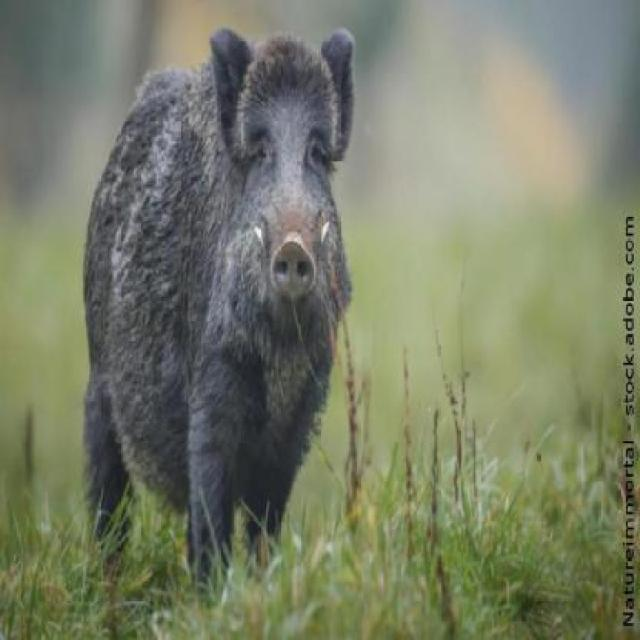wildboar: (73, 20, 364, 615)
